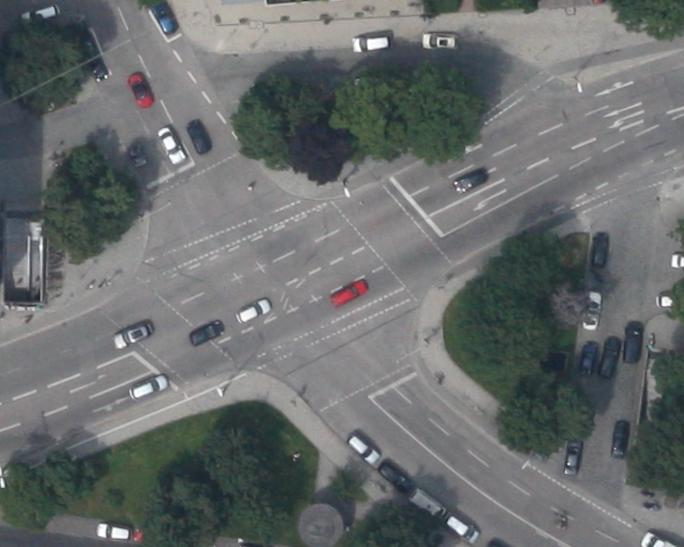car: (376, 459, 415, 496), (155, 124, 187, 166), (111, 319, 154, 350), (441, 512, 480, 546), (409, 488, 447, 521), (126, 374, 170, 402), (328, 278, 369, 307), (232, 296, 271, 326), (596, 335, 622, 379), (346, 433, 380, 465), (184, 117, 212, 155), (126, 71, 154, 109), (150, 0, 179, 36), (452, 166, 487, 194), (188, 319, 224, 346), (622, 320, 644, 363), (22, 2, 60, 26), (582, 290, 603, 331), (610, 418, 631, 459), (351, 34, 390, 54), (95, 522, 132, 542), (563, 438, 582, 474), (422, 32, 458, 50), (590, 232, 608, 268), (578, 343, 596, 377), (87, 56, 109, 83), (126, 143, 148, 168)
